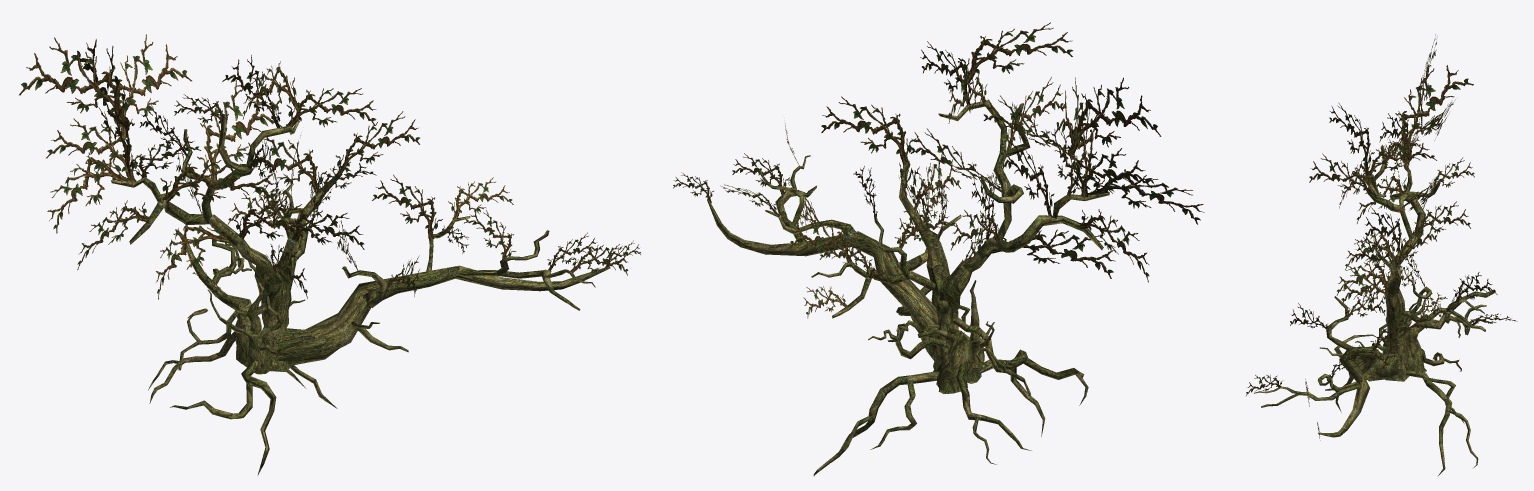
Rendered from gushu_dw_60.FBX.
3 views of the same model, side by side, from view 1: azimuth 30°, elevation 25°; view 2: azimuth 150°, elevation 25°; view 3: azimuth 270°, elevation 25° (orthographic). The views are drawn at different scales.
Parts seen in each view (by area): view 1: gushu_dw_60_shuzhi, gushu_dw_60_shugan; view 2: gushu_dw_60_shugan, gushu_dw_60_shuzhi; view 3: gushu_dw_60_shuzhi, gushu_dw_60_shugan.
Boxes of the visible parts, x1,y1,x2,y2 form: gushu_dw_60_shuzhi: [19, 34, 640, 299]; gushu_dw_60_shugan: [111, 113, 610, 475]; gushu_dw_60_shugan: [707, 100, 1109, 476]; gushu_dw_60_shuzhi: [673, 22, 1204, 333]; gushu_dw_60_shuzhi: [1246, 34, 1517, 440]; gushu_dw_60_shugan: [1254, 144, 1494, 475].
Size of what is drawn, in the model's own units: 3571 by 2767 by 1967.
